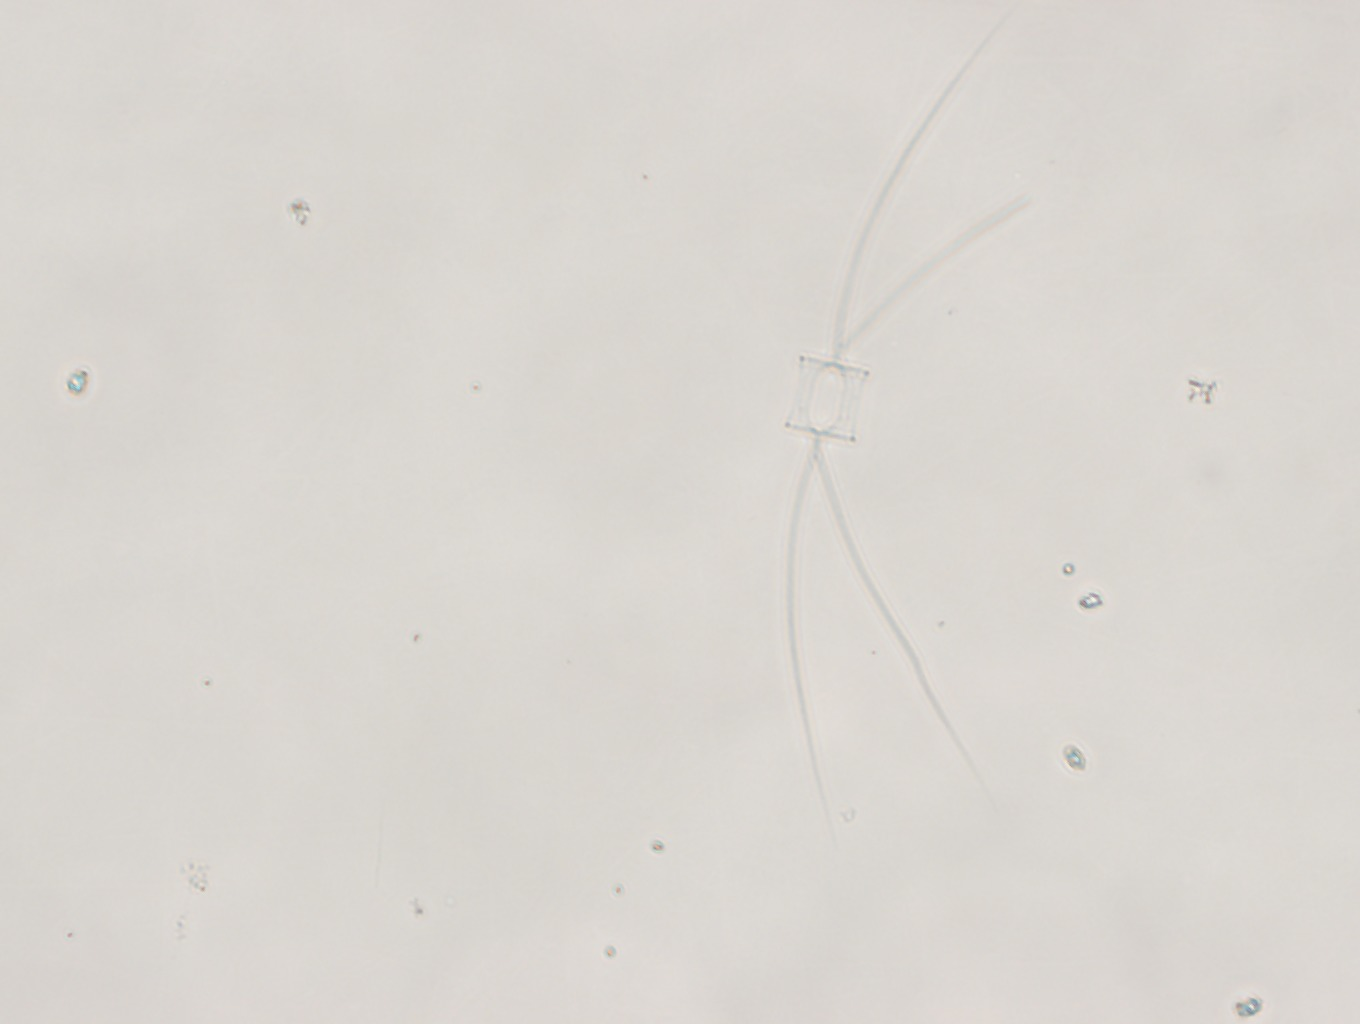chaetoceros: (753, 26, 1066, 819)
